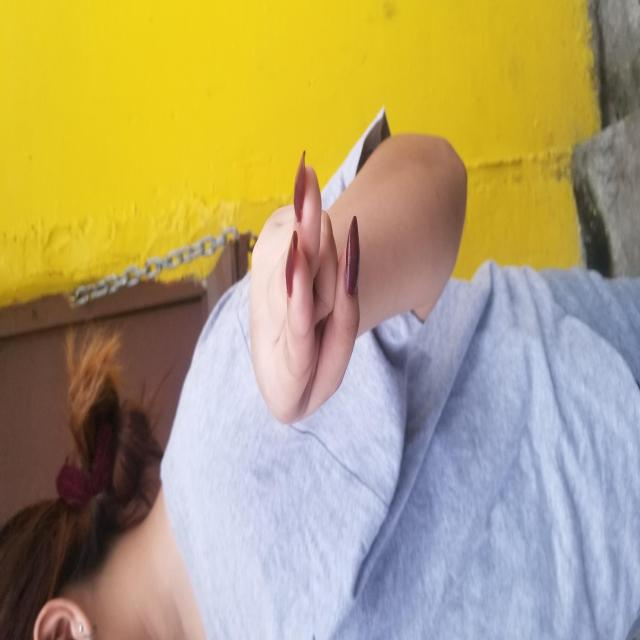N: (222, 248, 487, 360)
